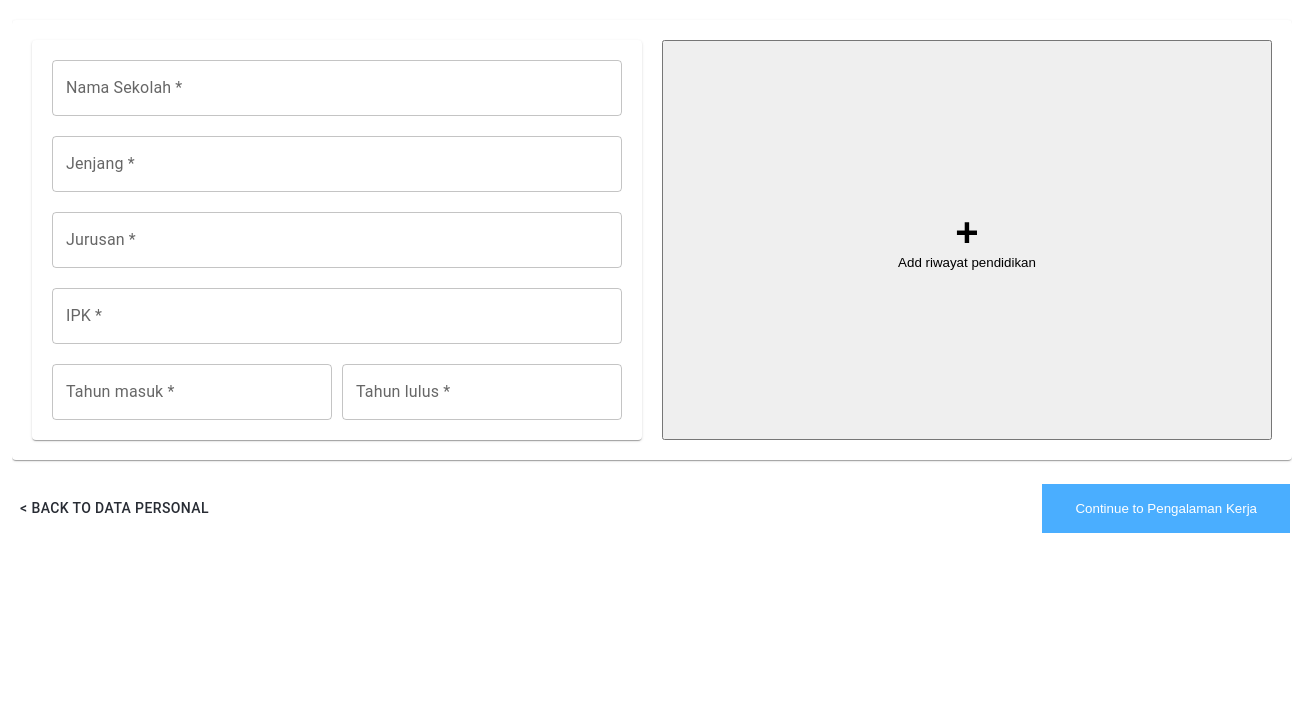
Test: RiwayatPendidikan › renders new field when add riwayat pendidikan btn is clicked
The width and height of the screenshot is (1304, 720).
Check: the number of fields labelled "Nama Sekolah *" is 1, box 52,60 -> 622,116
Click the button with test id "add-riwayat-pendidikan" at (699, 240), box 662,40 -> 1272,440
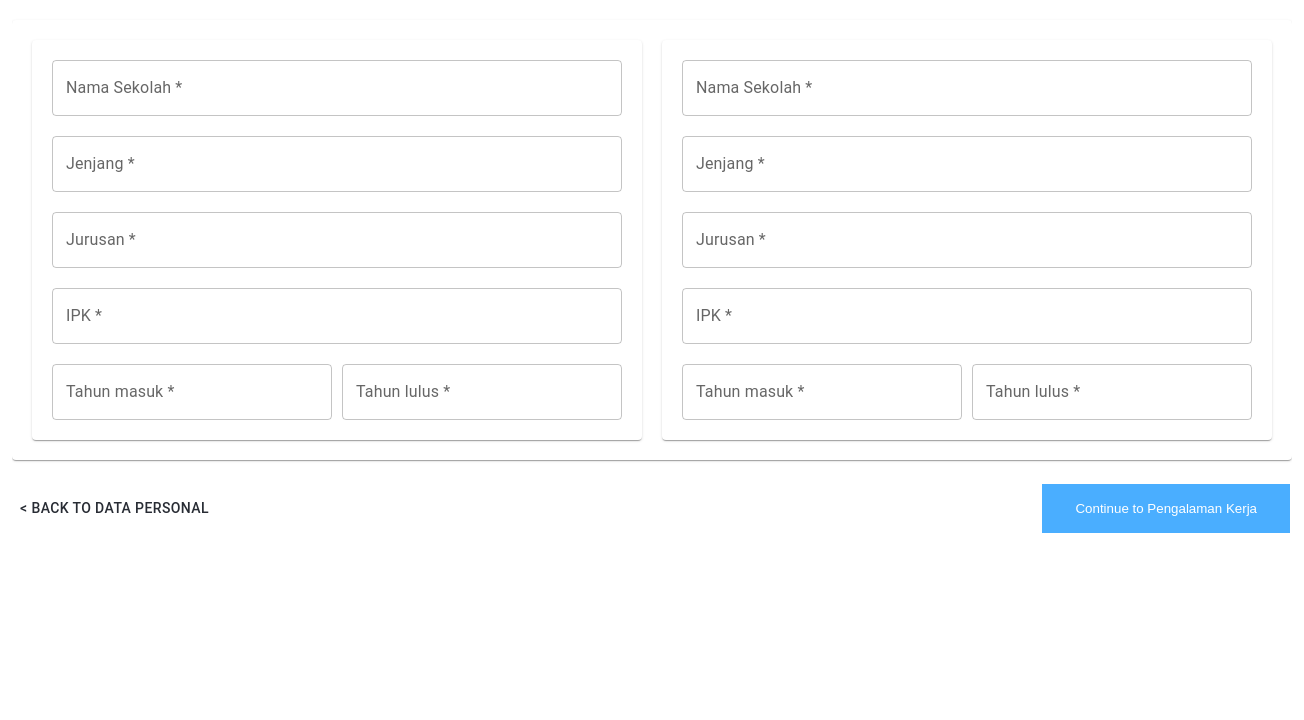
Check: the number of fields labelled "Nama Sekolah *" is 2, box 52,60 -> 622,116; 682,60 -> 1252,116
Check: the button with test id "add-riwayat-pendidikan" is gone
